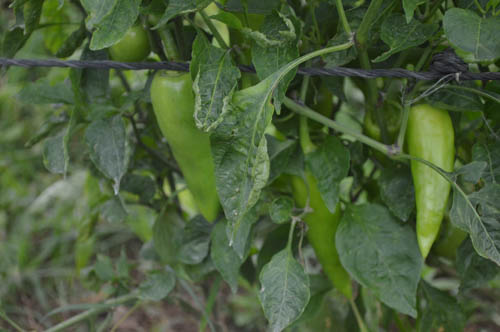ChiliPepper: (154, 72, 223, 222), (404, 102, 456, 267), (295, 161, 351, 287)
